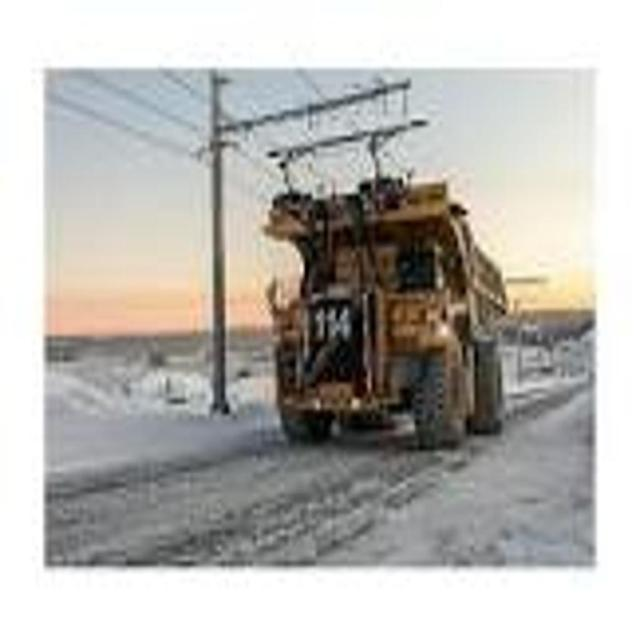dump_truck: (260, 170, 510, 456)
